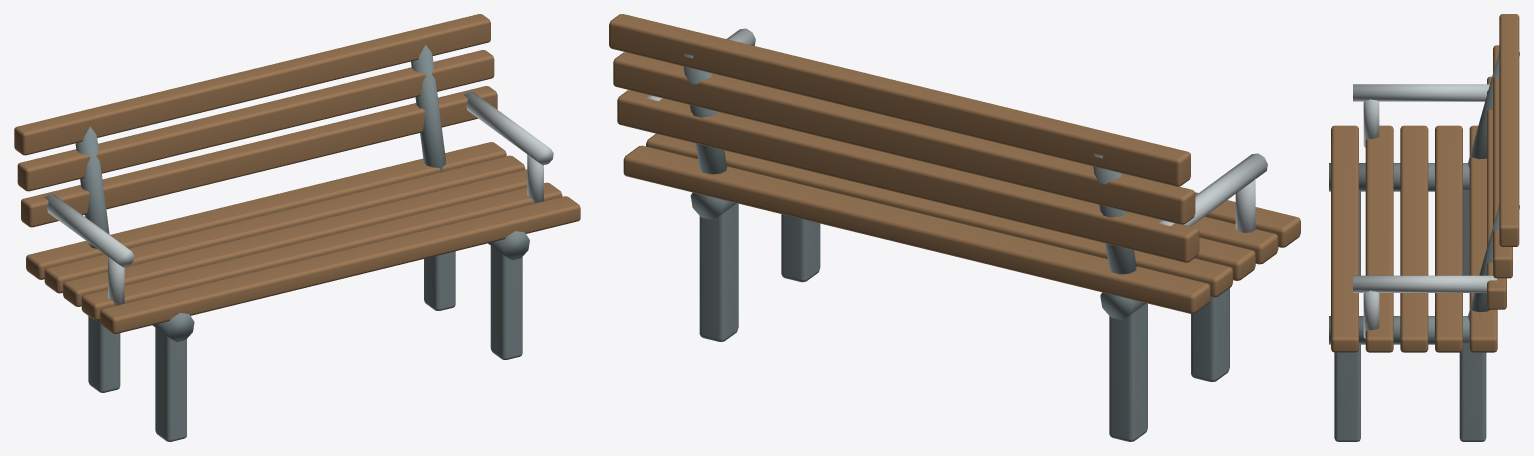
Rendered from Bench.fbx.
The picture shows the model from 3 angles, left to right: view 1: azimuth 30°, elevation 25°; view 2: azimuth 150°, elevation 25°; view 3: azimuth 270°, elevation 25°; orthographic projection. The views are drawn at different scales.
Parts seen in each view (by area): view 1: Seat slat, Steel leg, Armrest; view 2: Seat slat, Steel leg, Armrest; view 3: Seat slat, Steel leg, Armrest.
Part boxes in pixels (x1,y1,x2,y2): Seat slat: (14,14,580,333); Steel leg: (75,44,529,441); Armrest: (44,92,553,305); Seat slat: (609,14,1300,313); Steel leg: (683,53,1229,441); Armrest: (646,28,1267,232); Seat slat: (1331,14,1519,352); Steel leg: (1329,52,1519,441); Armrest: (1353,84,1496,338).
Bounding box in the file's own units: 190 × 100 × 71.64.
